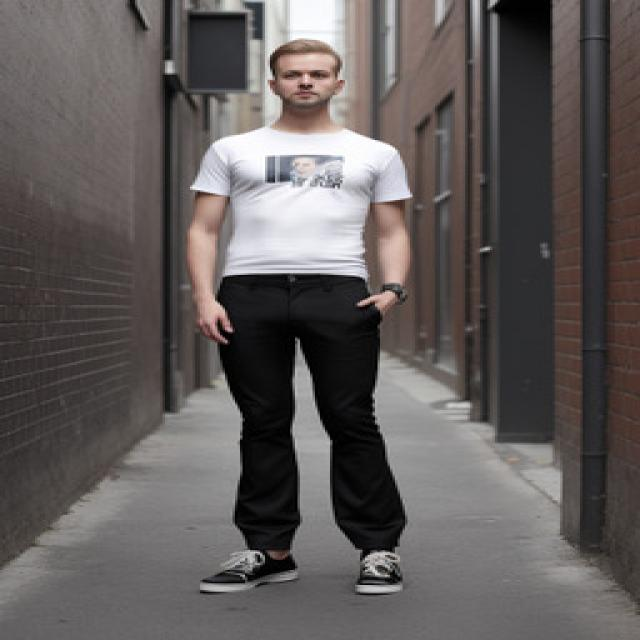Ai human 2: (171, 28, 438, 608)
